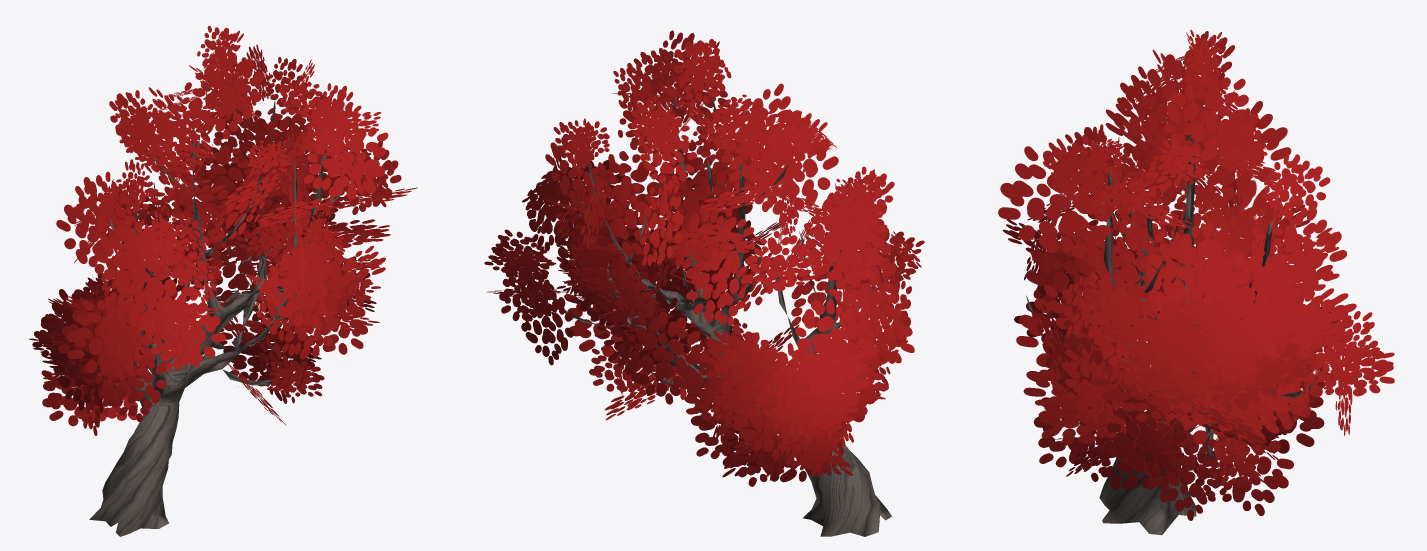
The model's file is TwistedTree_1.gltf.
3 views of the same model, side by side, from view 1: azimuth 30°, elevation 25°; view 2: azimuth 150°, elevation 25°; view 3: azimuth 270°, elevation 25° (orthographic). The views are drawn at different scales.
Parts seen in each view (by area): view 1: TwistedTree_1; view 2: TwistedTree_1; view 3: TwistedTree_1.
Part boxes in pixels (x1,y1,x2,y2): TwistedTree_1: [29, 25, 417, 536]; TwistedTree_1: [484, 30, 924, 536]; TwistedTree_1: [998, 29, 1394, 535].
Bounding box in the file's own units: 15.16 × 17.29 × 12.27.
Materials: 2 (2 with a texture image).
